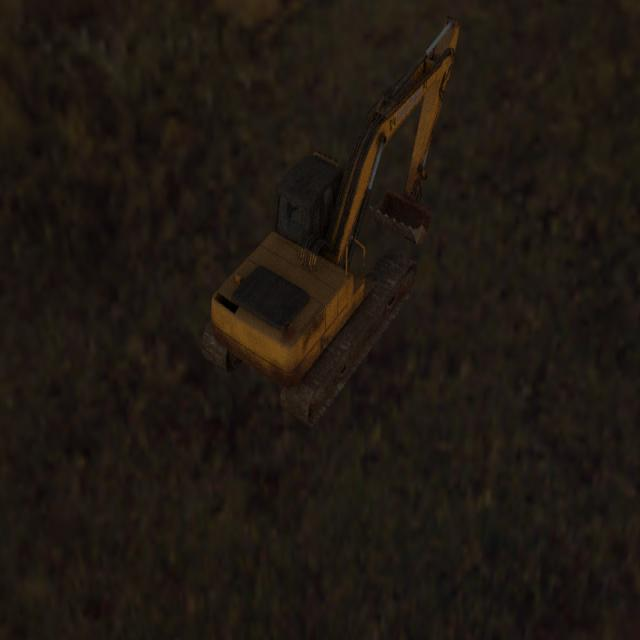excavator: (200, 13, 460, 427)
